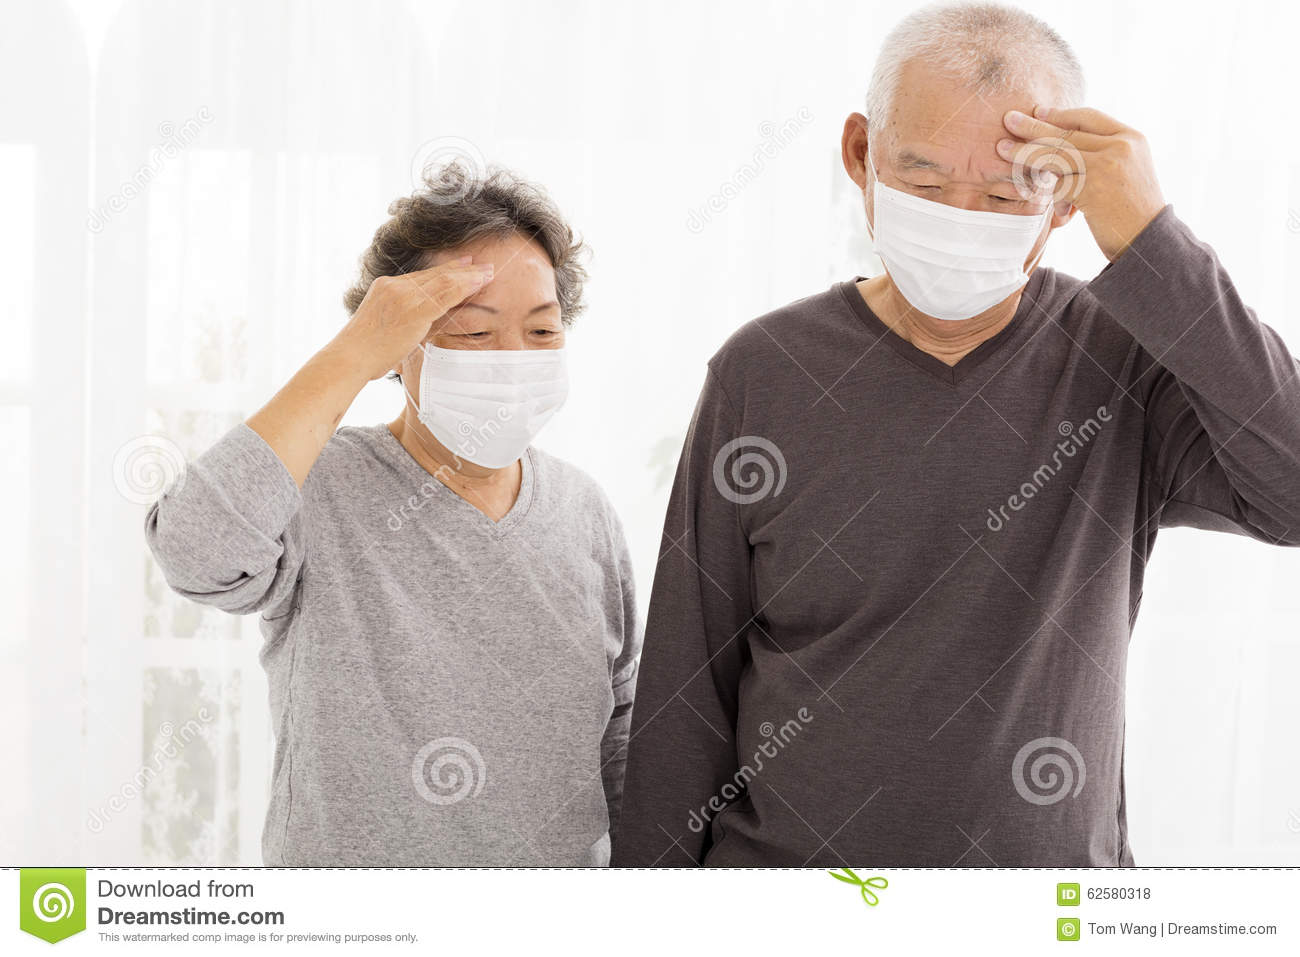mask: (868, 181, 1041, 327), (412, 346, 571, 472)
